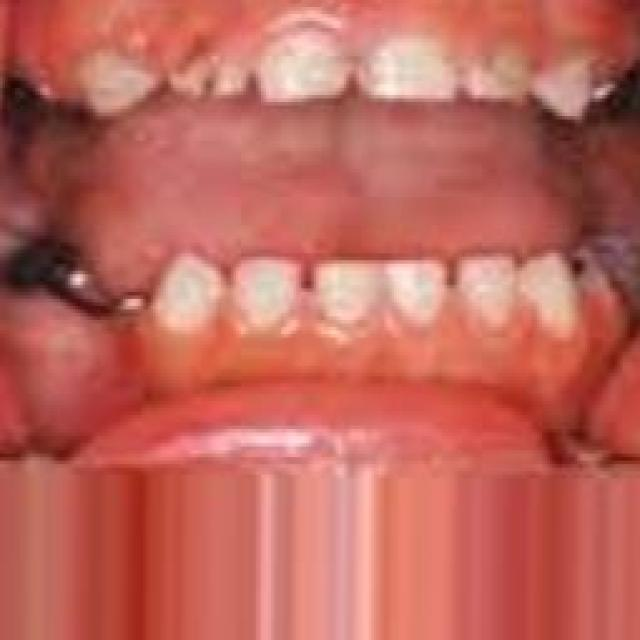caries: (175, 41, 250, 112), (564, 234, 618, 308)
